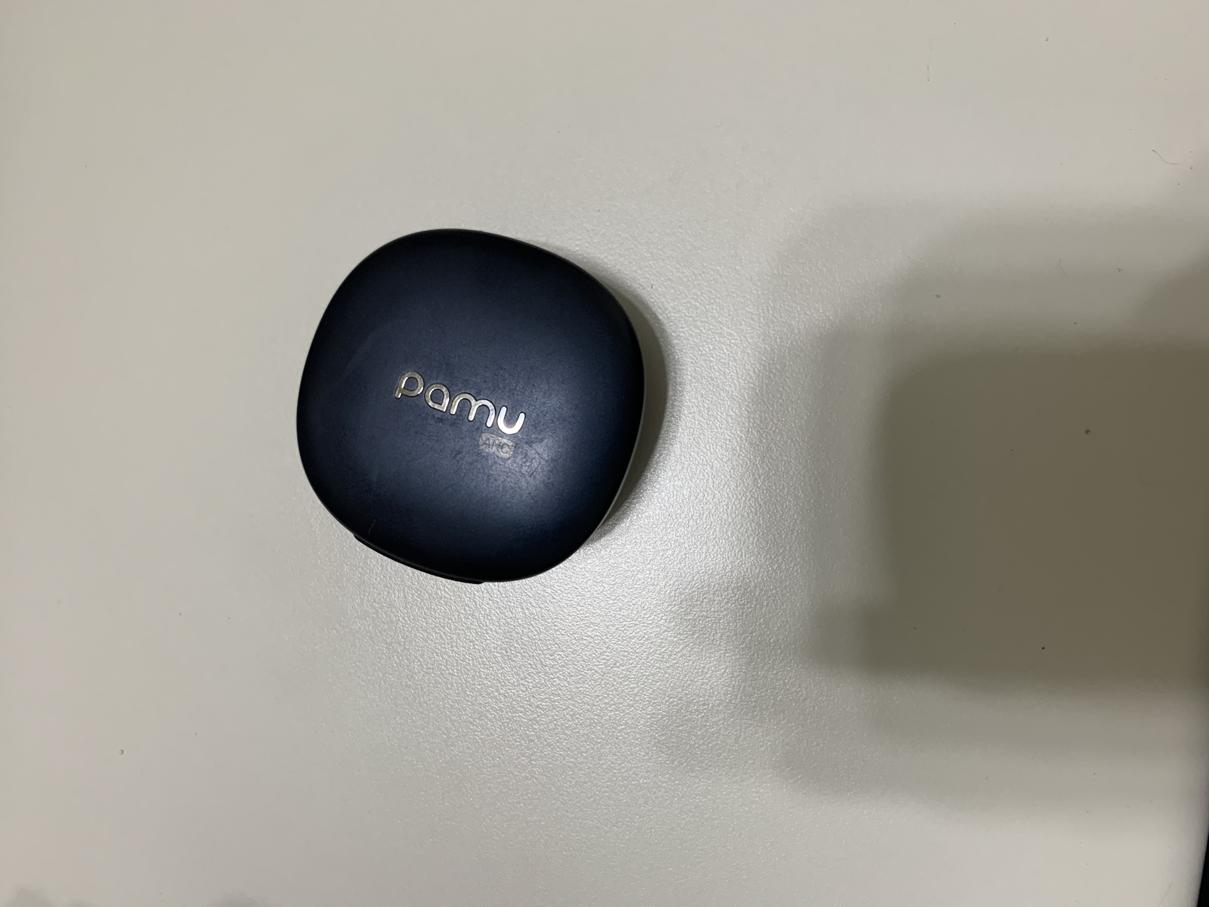pami: (270, 207, 675, 590)
